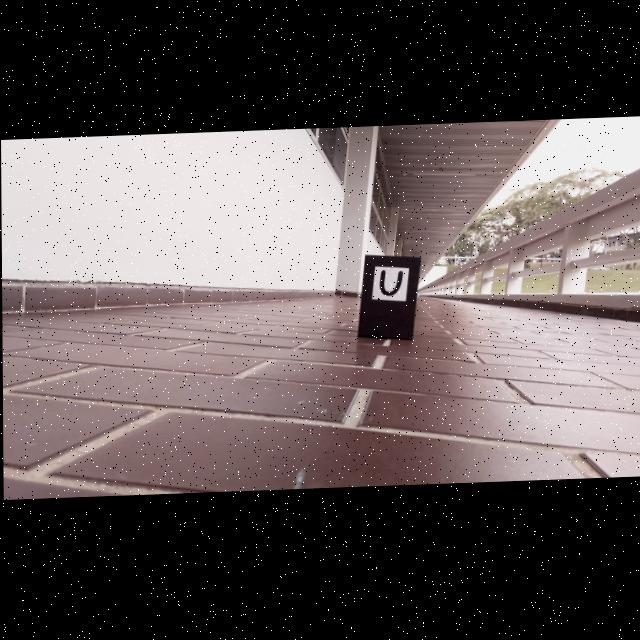U: (379, 273, 403, 299)
